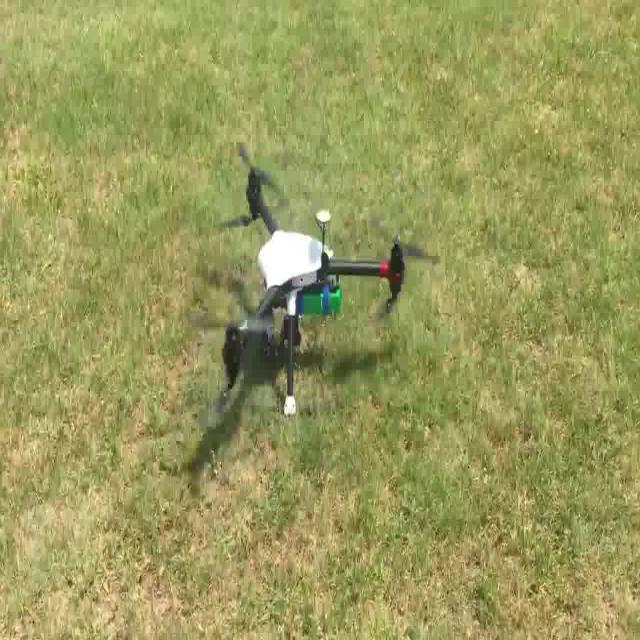drone: (212, 144, 442, 415)
